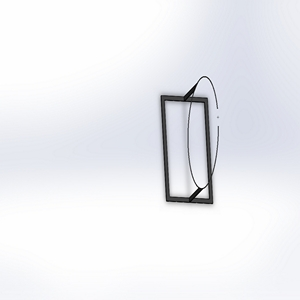circle: (158, 74, 222, 207)
